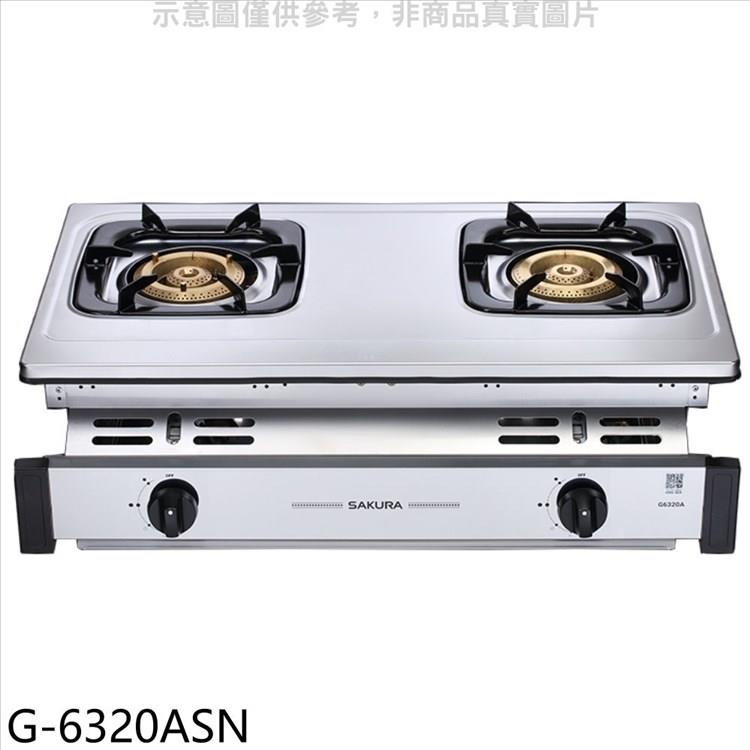gasoven: (12, 193, 746, 561)
